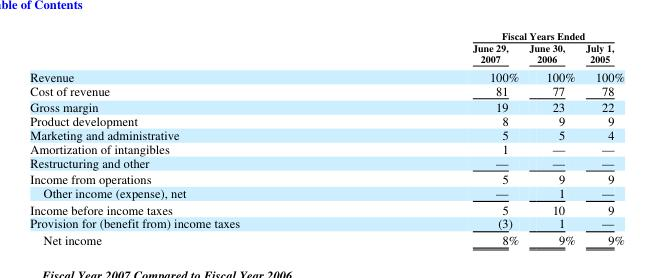table: (29, 28, 624, 247)
table column: (29, 28, 355, 247), (355, 28, 523, 247), (523, 28, 579, 247), (579, 28, 624, 247)
table column header: (29, 28, 624, 66)
table row: (29, 41, 624, 66), (29, 230, 624, 247), (29, 66, 624, 82), (29, 97, 624, 113), (29, 82, 624, 97), (29, 155, 624, 170), (29, 170, 624, 185), (29, 185, 624, 200), (29, 200, 624, 215), (29, 215, 624, 230), (29, 113, 624, 127), (29, 127, 624, 141), (29, 141, 624, 155), (29, 28, 624, 41)
table spanning cell: (355, 28, 624, 41)
